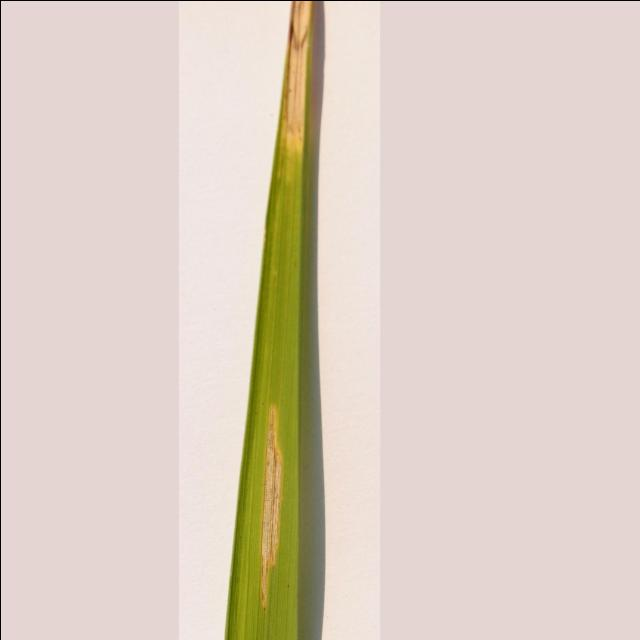Bacterial leaf blight: (220, 0, 333, 640)
